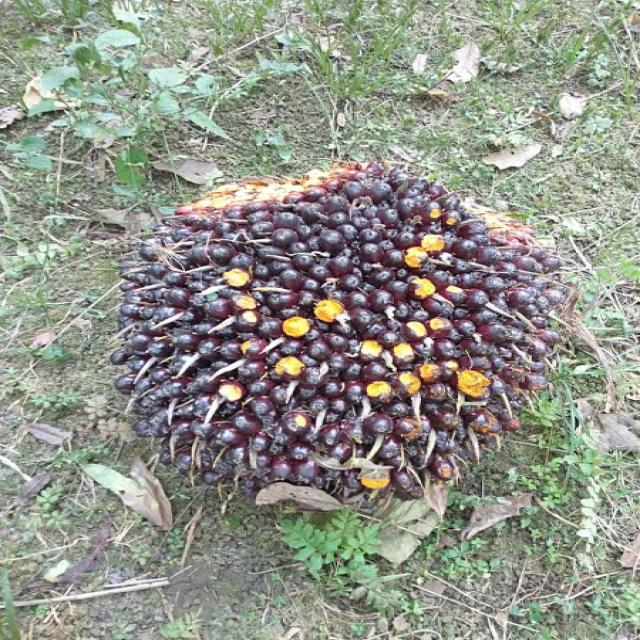fraksi 00: (109, 160, 567, 513)
